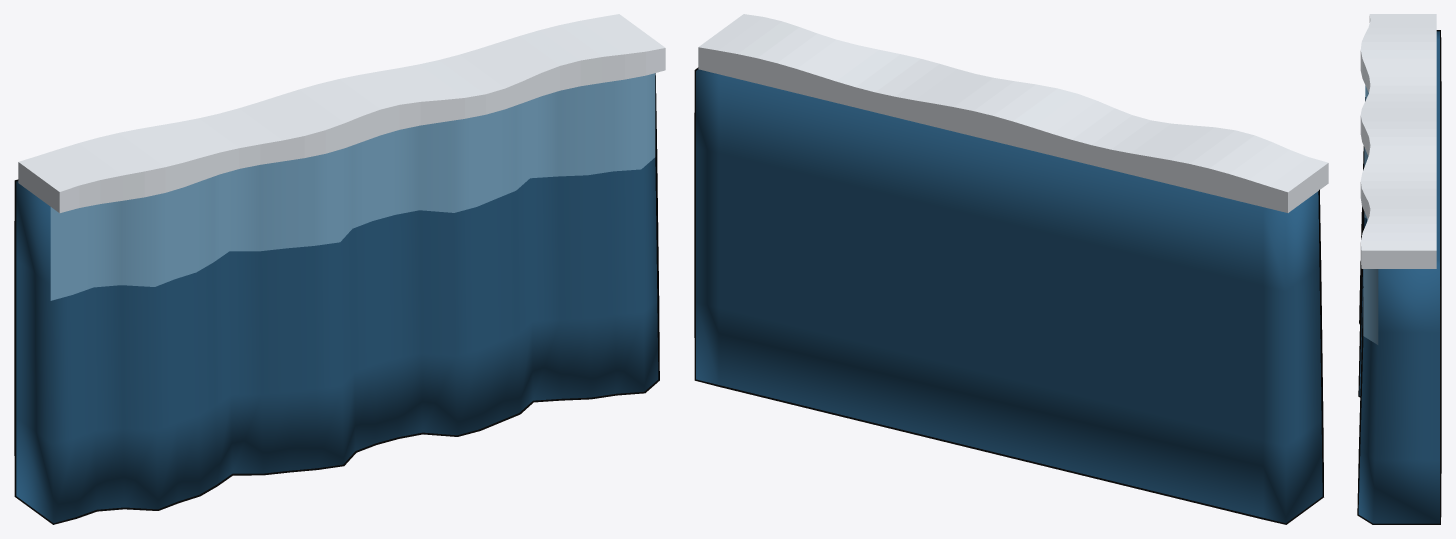
File: Tundra_RiftWall.glb
3 renders of one model, left to right at view 1: azimuth 30°, elevation 25°; view 2: azimuth 150°, elevation 25°; view 3: azimuth 270°, elevation 25°, orthographic. The views are drawn at different scales.
Parts seen in each view (by area): view 1: Tundra_RiftWall_Deep, Tundra_RiftWall_Upper, Tundra_RiftWall_Lip, Tundra_RiftWall_OutlineHull; view 2: Tundra_RiftWall_Deep, Tundra_RiftWall_Lip, Tundra_RiftWall_OutlineHull; view 3: Tundra_RiftWall_Deep, Tundra_RiftWall_Lip, Tundra_RiftWall_OutlineHull, Tundra_RiftWall_Upper.
Part boxes in pixels (bbox=[...]): Tundra_RiftWall_Deep: bbox=[16, 157, 658, 523]; Tundra_RiftWall_Upper: bbox=[50, 73, 655, 300]; Tundra_RiftWall_Lip: bbox=[18, 14, 665, 213]; Tundra_RiftWall_OutlineHull: bbox=[14, 73, 659, 524]; Tundra_RiftWall_Deep: bbox=[696, 69, 1322, 523]; Tundra_RiftWall_Lip: bbox=[698, 14, 1328, 212]; Tundra_RiftWall_OutlineHull: bbox=[694, 67, 1323, 524]; Tundra_RiftWall_Deep: bbox=[1358, 31, 1439, 523]; Tundra_RiftWall_Lip: bbox=[1360, 14, 1436, 268]; Tundra_RiftWall_OutlineHull: bbox=[1357, 30, 1441, 524]; Tundra_RiftWall_Upper: bbox=[1363, 85, 1378, 344].
Bounding box in the file's own units: 8.04 × 4.35 × 1.2.
